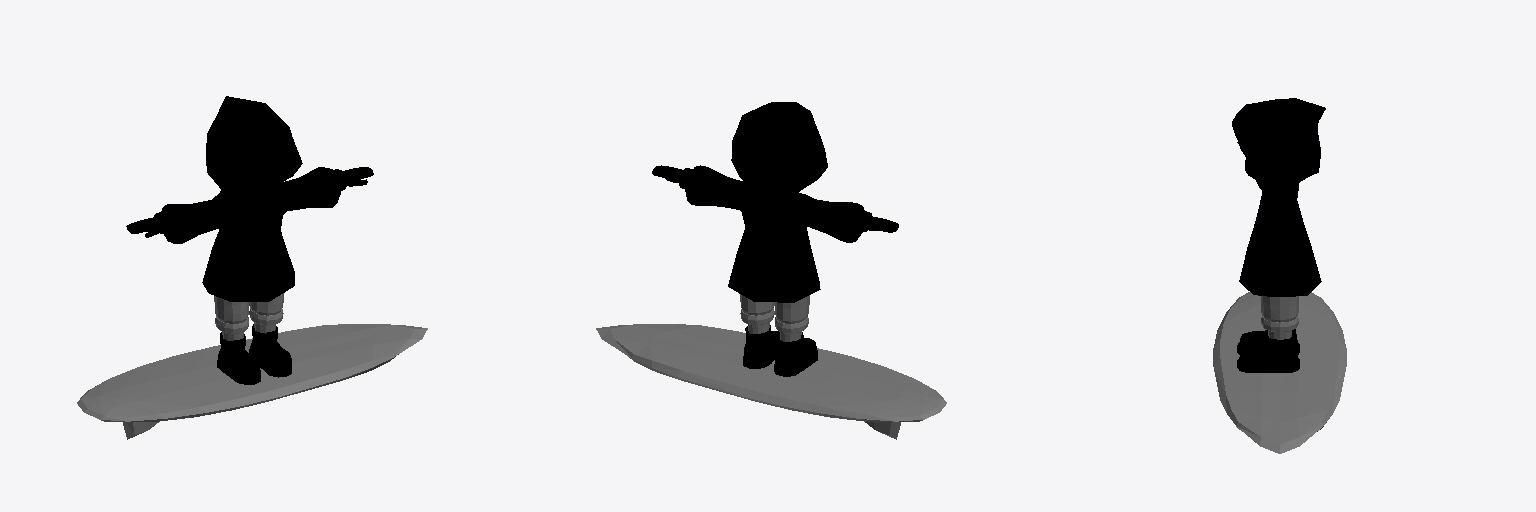
File: safin.obj
3 views of the same model, side by side, from view 1: azimuth 30°, elevation 25°; view 2: azimuth 150°, elevation 25°; view 3: azimuth 270°, elevation 25° (orthographic).
Visible parts, largest first — view 1: Player_v2_1:Character_V2 Player_v2_1:raincoat, Player_v2_1:Surfbord_geo, Player_v2_1:Character_V2 Player_v2_1:pants, Player_v2_1:Character_V2 Player_v2_1:R_boots, Player_v2_1:Character_V2 Player_v2_1:L_boots, Player_v2_1:Character_V2 Player_v2_1:face; view 2: Player_v2_1:Character_V2 Player_v2_1:raincoat, Player_v2_1:Surfbord_geo, Player_v2_1:Character_V2 Player_v2_1:pants, Player_v2_1:Character_V2 Player_v2_1:R_boots, Player_v2_1:Character_V2 Player_v2_1:L_boots; view 3: Player_v2_1:Surfbord_geo, Player_v2_1:Character_V2 Player_v2_1:raincoat, Player_v2_1:Character_V2 Player_v2_1:L_boots, Player_v2_1:Character_V2 Player_v2_1:pants, Player_v2_1:Character_V2 Player_v2_1:R_boots.
Part boxes in pixels (x1,y1,x2,y2): Player_v2_1:Character_V2 Player_v2_1:raincoat: (154,96,346,301); Player_v2_1:Surfbord_geo: (77,324,427,439); Player_v2_1:Character_V2 Player_v2_1:pants: (214,293,283,340); Player_v2_1:Character_V2 Player_v2_1:R_boots: (217,332,260,384); Player_v2_1:Character_V2 Player_v2_1:L_boots: (249,324,291,377); Player_v2_1:Character_V2 Player_v2_1:face: (229,166,281,191); Player_v2_1:Character_V2 Player_v2_1:raincoat: (678,102,871,302); Player_v2_1:Surfbord_geo: (596,324,946,439); Player_v2_1:Character_V2 Player_v2_1:pants: (740,294,809,341); Player_v2_1:Character_V2 Player_v2_1:R_boots: (774,332,817,376); Player_v2_1:Character_V2 Player_v2_1:L_boots: (743,325,779,368); Player_v2_1:Surfbord_geo: (1213,292,1346,453); Player_v2_1:Character_V2 Player_v2_1:raincoat: (1232,98,1325,296); Player_v2_1:Character_V2 Player_v2_1:L_boots: (1237,332,1299,372); Player_v2_1:Character_V2 Player_v2_1:pants: (1261,296,1298,339); Player_v2_1:Character_V2 Player_v2_1:R_boots: (1237,329,1299,355).
Bounding box in the file's own units: 194 × 164 × 65.